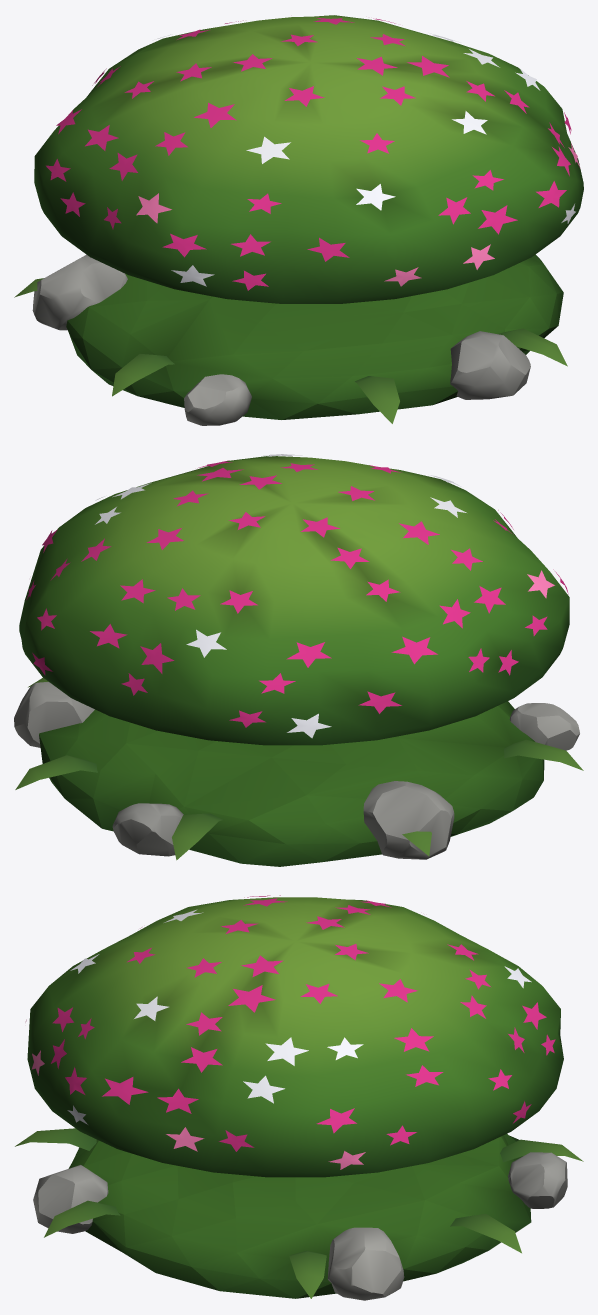
File: bounce_mountain.glb
The picture shows the model from 3 angles, top to bottom: view 1: azimuth 30°, elevation 25°; view 2: azimuth 150°, elevation 25°; view 3: azimuth 270°, elevation 25°; orthographic projection. The views are drawn at different scales.
Visible parts, largest first — view 1: top, bounce_mountain; view 2: top, bounce_mountain; view 3: top, bounce_mountain.
Boxes of the visible parts, left/top/right/bottom form: top: left=34, top=15, right=583, bottom=303; bounce_mountain: left=14, top=254, right=567, bottom=425; top: left=19, top=454, right=569, bottom=745; bounce_mountain: left=14, top=678, right=583, bottom=866; top: left=25, top=895, right=563, bottom=1177; bounce_mountain: left=15, top=1128, right=583, bottom=1300.
Bounding box in the file's own units: 1.66 × 0.8002 × 1.67.
